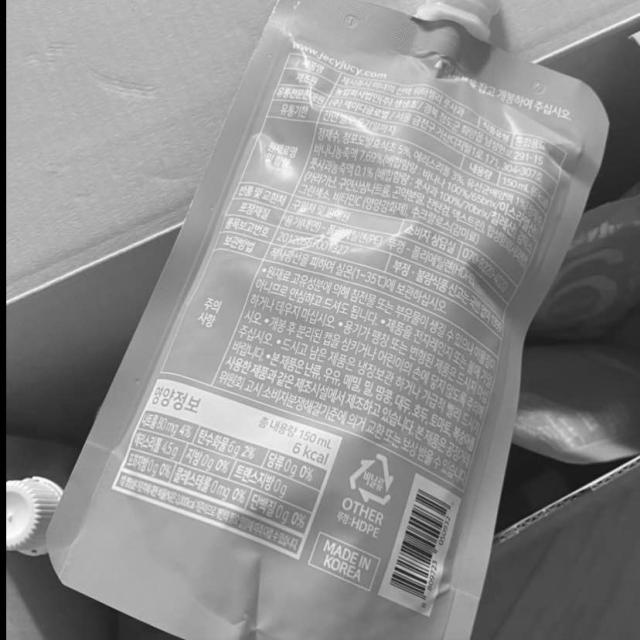Nutrition Label: (102, 375, 344, 554)
